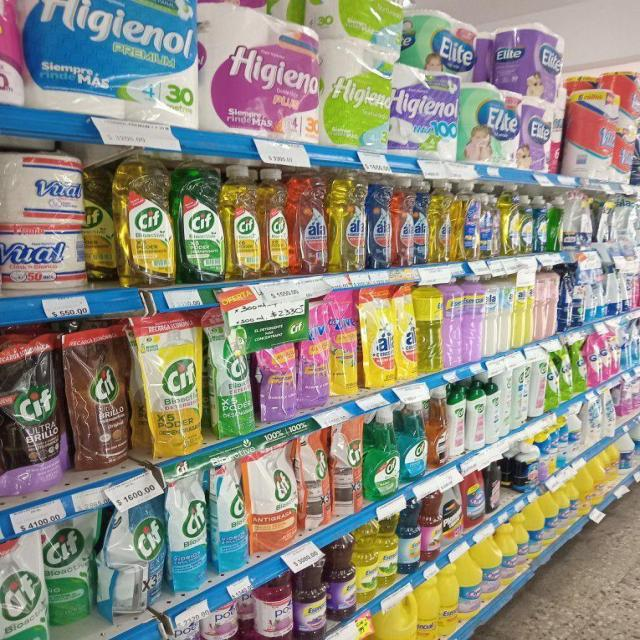ala_conc_amarillo: (330, 172, 366, 272), (429, 180, 449, 263)
ala_conc_azul: (366, 174, 392, 268), (412, 179, 429, 265)
ala_conc_rojo: (292, 169, 328, 275), (392, 178, 412, 266)
ala_crem_amarillo: (514, 268, 526, 349)
ala_crem_blanco: (485, 274, 498, 356), (499, 272, 512, 352)
ala_sachet_amarillo: (362, 287, 394, 388), (396, 285, 418, 381)
cif_conc_bot_amarilla: (118, 150, 174, 287), (226, 164, 262, 280), (84, 163, 115, 283), (262, 168, 291, 276)
cif_conc_botella_verde: (176, 161, 224, 283)
cif_conc_sachet_amarillo: (142, 312, 203, 457)
cif_conc_sachet_verde: (209, 308, 254, 437), (0, 536, 47, 640), (48, 520, 94, 626)
esencial: (463, 275, 482, 362), (547, 351, 560, 411)
magistral_con_amarillo: (501, 188, 520, 256), (519, 193, 533, 254)
magistral_con_azul: (534, 194, 548, 253)
zorro: (462, 183, 479, 260), (479, 185, 496, 259)
